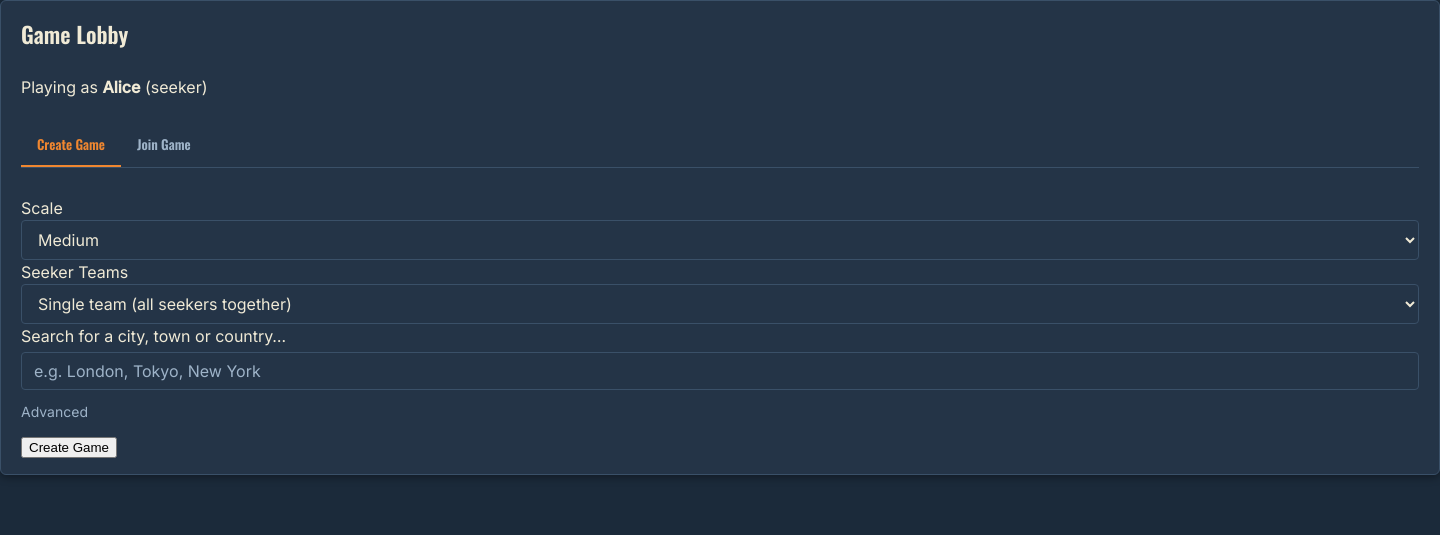
GameForm › shows error when createGame rejects
Click the button "Create Game" at (69, 447), box [21,437,117,458]
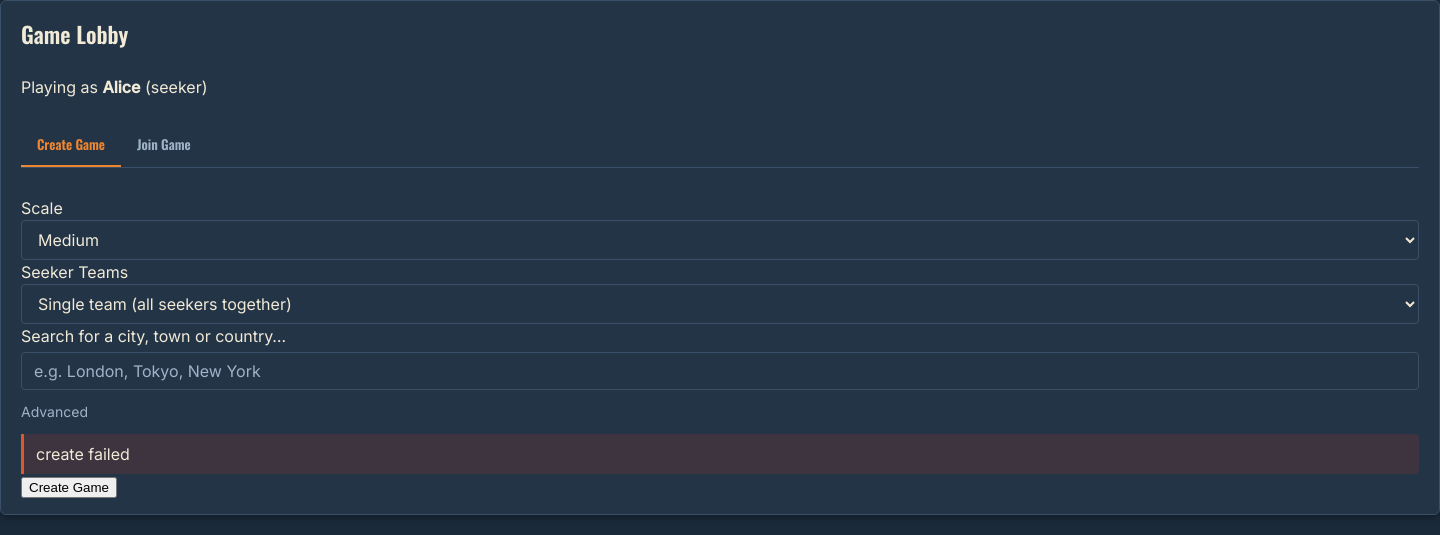
Expected: the message reads "create failed", [36,444,130,464]
